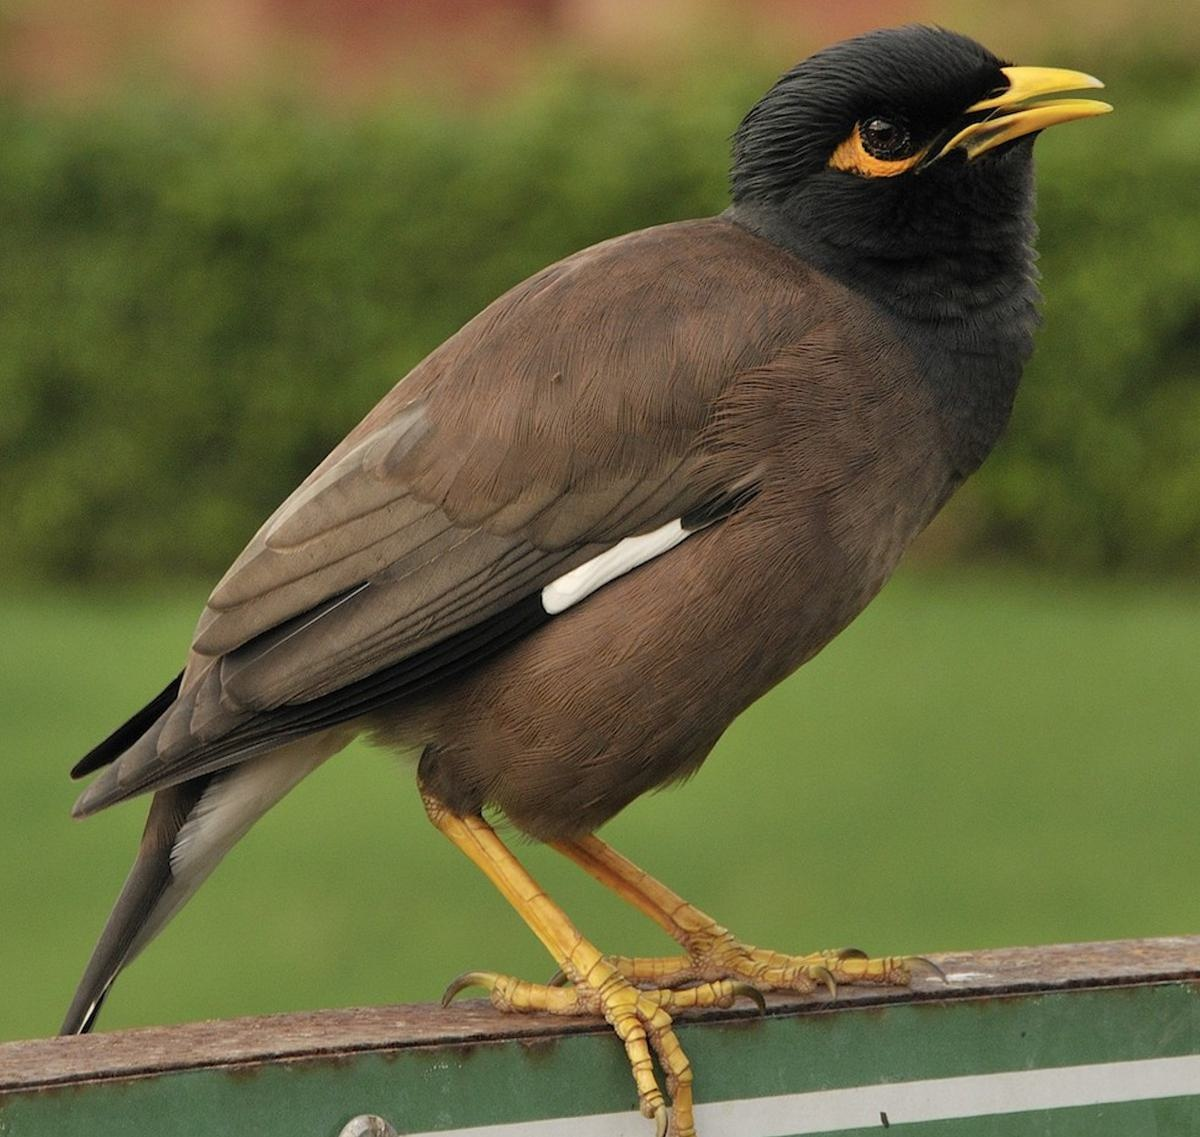myna: (60, 24, 1108, 1026)
